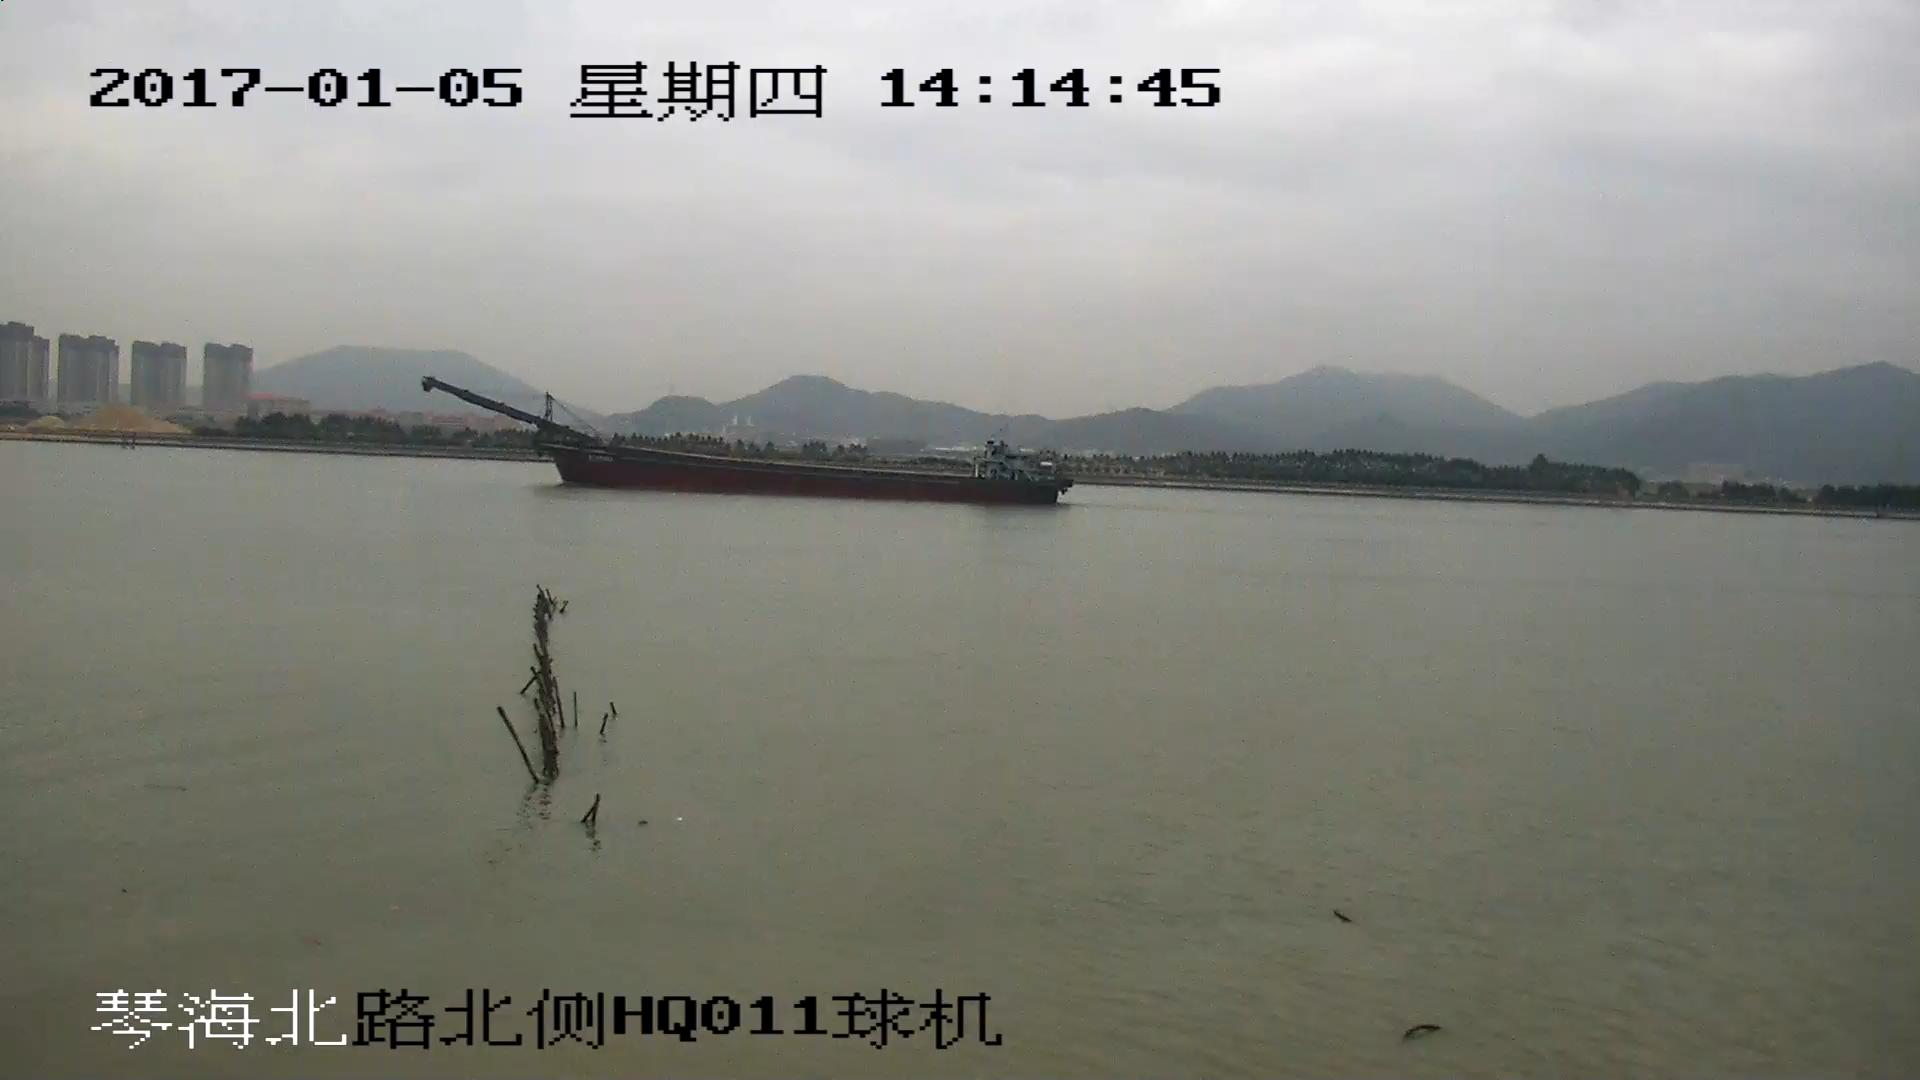bulk cargo carrier: (419, 385, 1066, 505)
